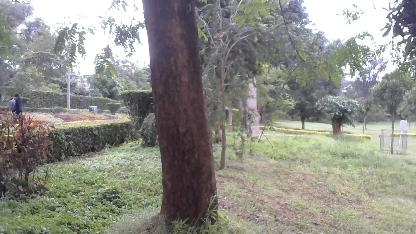tree: (131, 0, 230, 227)
